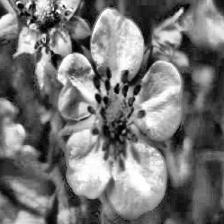Blossom Blight: (84, 65, 146, 157), (12, 0, 76, 53)
